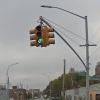traffic lights: (44, 26, 56, 47), (34, 24, 44, 46)
